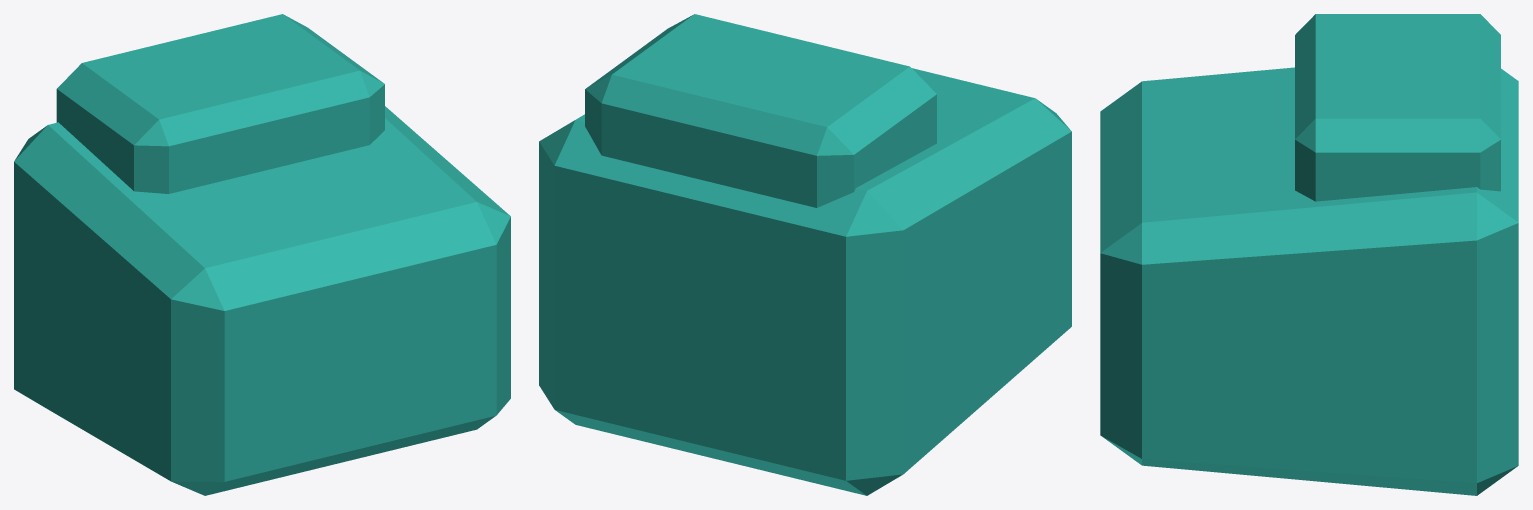
Rendered from TealBeanbag.fbx.
3 renders of one model, left to right at view 1: azimuth 30°, elevation 25°; view 2: azimuth 150°, elevation 25°; view 3: azimuth 270°, elevation 25°, orthographic. The views are drawn at different scales.
Parts seen in each view (by area): view 1: TealBeanbag; view 2: TealBeanbag; view 3: TealBeanbag.
Boxes of the visible parts, x1,y1,x2,y2 form: TealBeanbag: (14,14,510,495); TealBeanbag: (539,14,1071,495); TealBeanbag: (1100,14,1518,495).
Size of the model in its own units: 2.6 by 2.46 by 2.6.
1 material, 1 textured.
